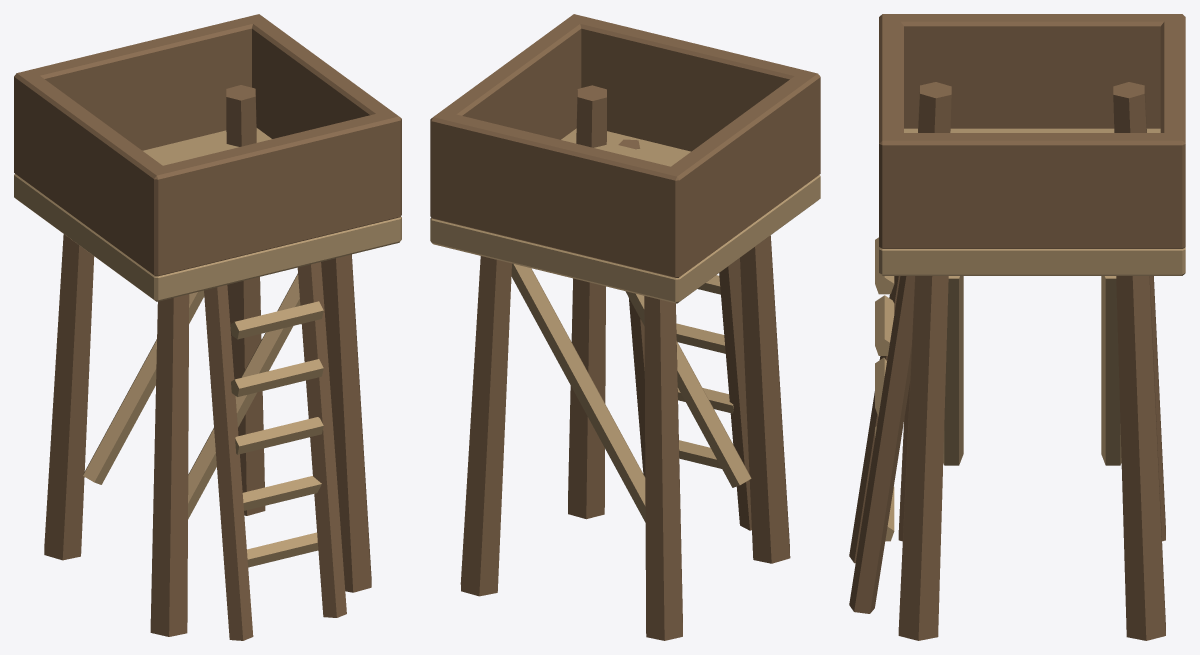
Rendered from site-watchtower.glb.
3 views of the same model, side by side, from view 1: azimuth 30°, elevation 25°; view 2: azimuth 150°, elevation 25°; view 3: azimuth 270°, elevation 25° (orthographic). The views are drawn at different scales.
Parts seen in each view (by area): view 1: Tapered form; view 2: Tapered form; view 3: Tapered form.
Boxes of the visible parts, bbox=[...] form: Tapered form: bbox=[14, 14, 401, 640]; Tapered form: bbox=[430, 14, 820, 640]; Tapered form: bbox=[849, 14, 1185, 640].
Size of the model in its own units: 0.27 by 0.4936 by 0.2963.
